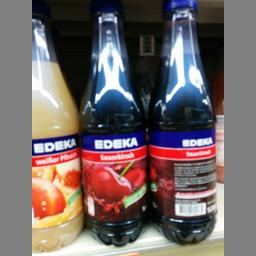juice: (145, 0, 217, 243), (79, 0, 150, 245), (30, 0, 84, 251)
